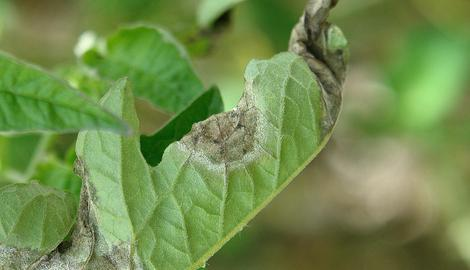Tomato leaf late blight: (0, 0, 379, 270), (0, 0, 172, 202)
